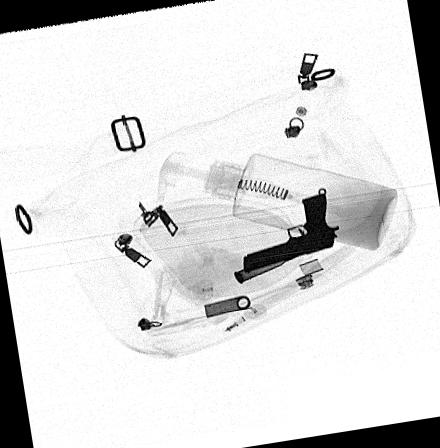Bullet: (233, 247, 311, 282)
Gun: (242, 192, 334, 272)
